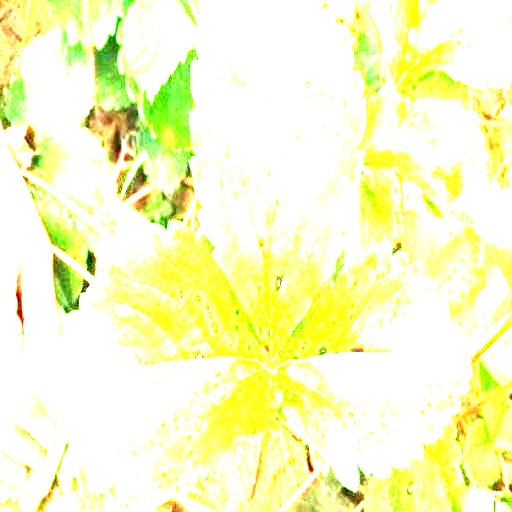Leaf Spot: (45, 220, 288, 511), (188, 0, 368, 365), (272, 245, 472, 494), (400, 212, 511, 357), (382, 0, 511, 91), (399, 72, 490, 193), (122, 0, 197, 108), (360, 458, 455, 511), (422, 422, 470, 511)
